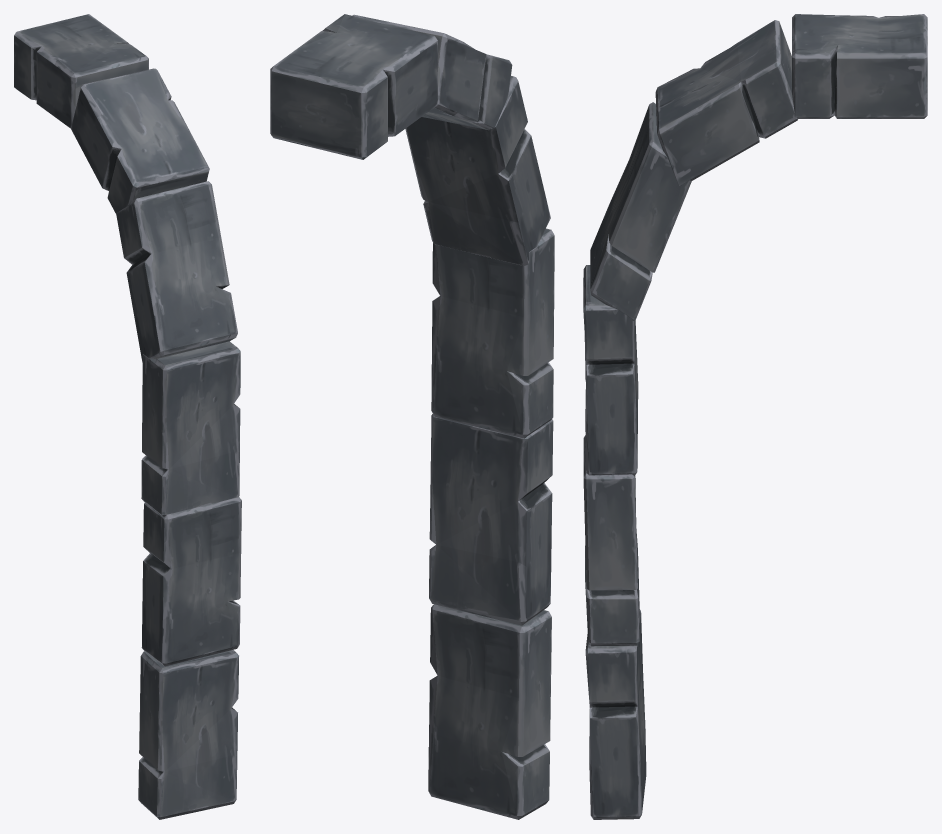
File: babysteinMAUER.fbx
The picture shows the model from 3 angles, left to right: view 1: azimuth 30°, elevation 25°; view 2: azimuth 150°, elevation 25°; view 3: azimuth 270°, elevation 25°; orthographic projection. The views are drawn at different scales.
Visible parts, largest first — view 1: Cube.001; view 2: Cube.001; view 3: Cube.001.
Boxes of the visible parts, x1=… form: Cube.001: x1=14, y1=14, x2=241, y2=819; Cube.001: x1=270, y1=14, x2=554, y2=819; Cube.001: x1=583, y1=14, x2=927, y2=819.
Bounding box in the file's own units: 53.57 × 434 × 176.
